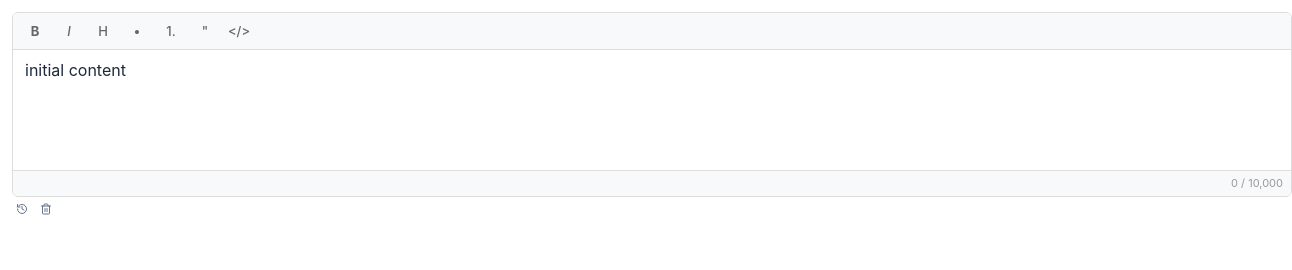
Test case: InlineNoteEditor — delete (NY10–NY15) › NY14: cancel keeps note and hides confirm prompt
Click the button with test id "delete-note-btn": x=46, y=208 [36, 200, 56, 216]
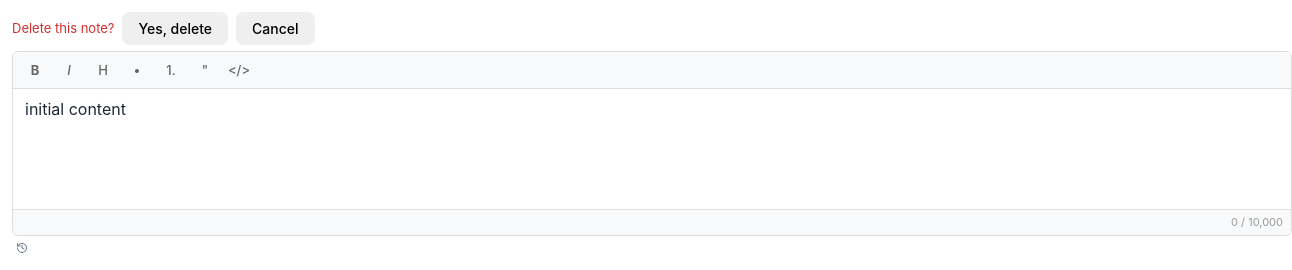
Click the button with test id "delete-confirm-no": x=275, y=28 [236, 12, 315, 45]
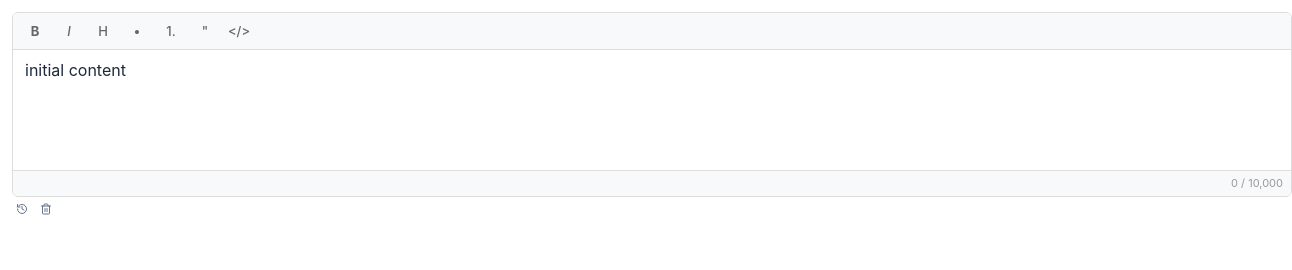
Check: the element with test id "delete-confirm-prompt" is gone
